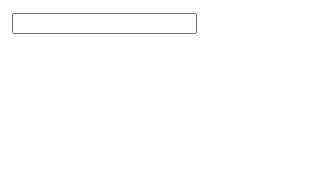
Test: MoneyInput › accepts a comma typed mid-amount instead of dropping the digits after it
Type "150,000" into the field named "amount" at (104, 24), box [12, 13, 197, 34]
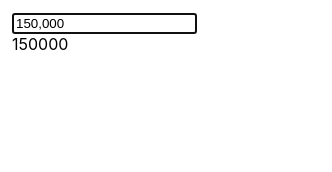
Check: the text with test id "raw" reads "150000", box [12, 34, 68, 54]
